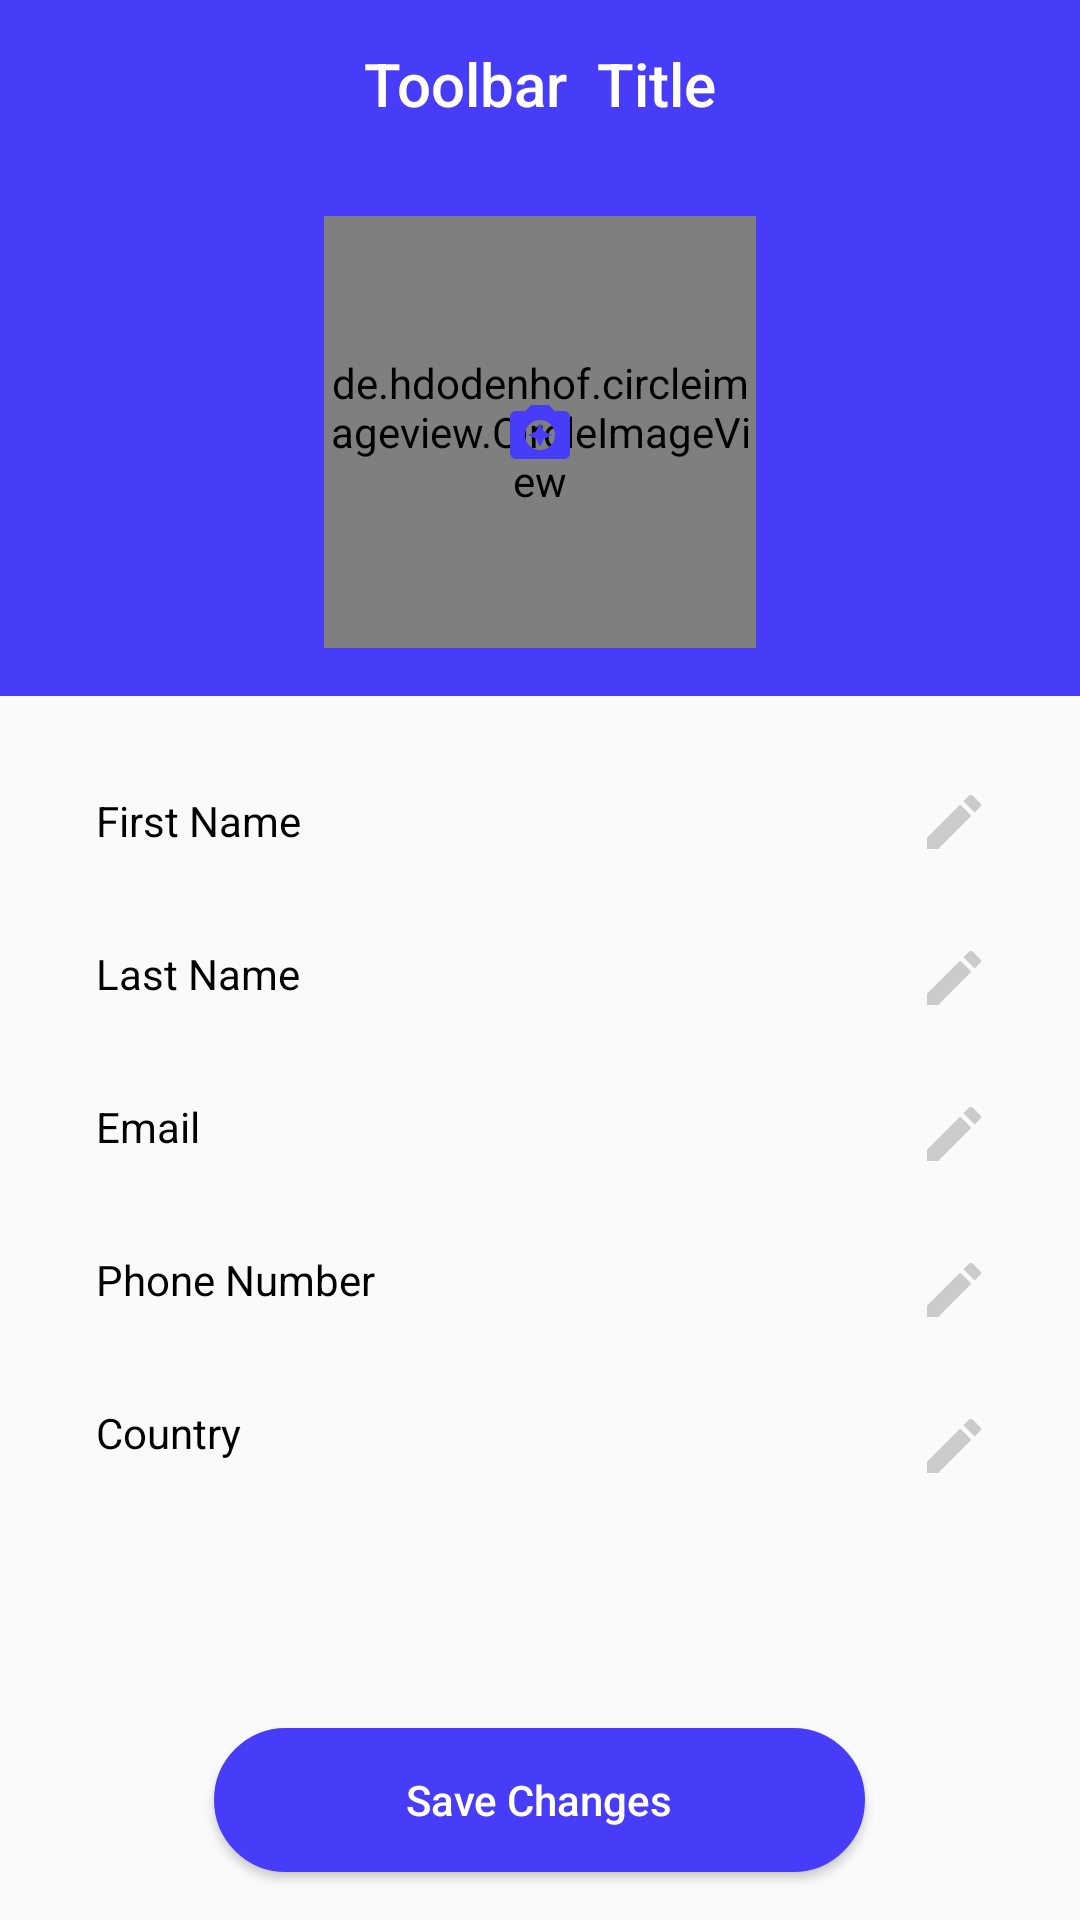

Icons on this 1080×1920 Android screen, each with the point to tap as point (x, y):
camera enhance: point (538, 427)
